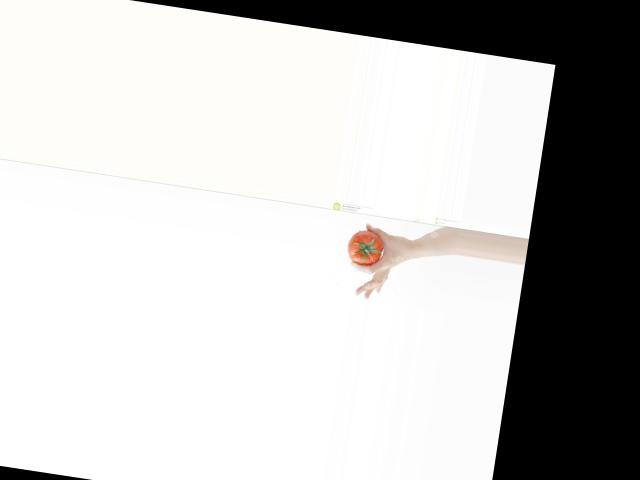tomato: (345, 227, 385, 267)
